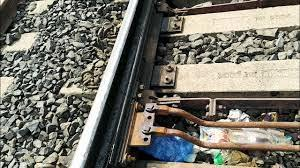mulch: (202, 126, 288, 154), (146, 134, 192, 162)
